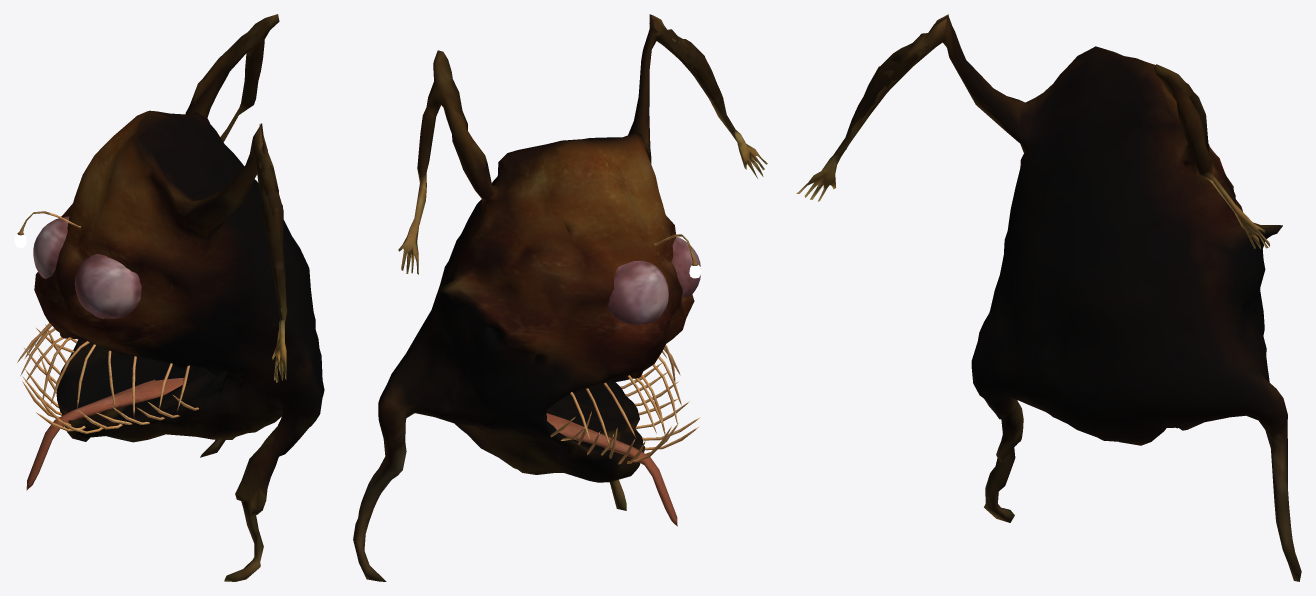
The model's file is angler.glb.
3 renders of one model, left to right at view 1: azimuth 30°, elevation 25°; view 2: azimuth 150°, elevation 25°; view 3: azimuth 270°, elevation 25°, orthographic. The views are drawn at different scales.
Parts seen in each view (by area): view 1: tmpnb_qtv19.001; view 2: tmpnb_qtv19.001; view 3: tmpnb_qtv19.001.
Boxes of the visible parts, <box> form: tmpnb_qtv19.001: <box>14,14,324,581</box>; tmpnb_qtv19.001: <box>353,14,767,581</box>; tmpnb_qtv19.001: <box>796,14,1301,581</box>.
Bounding box in the file's own units: 1.1 × 1.78 × 1.59.
3 materials, 2 textured.
